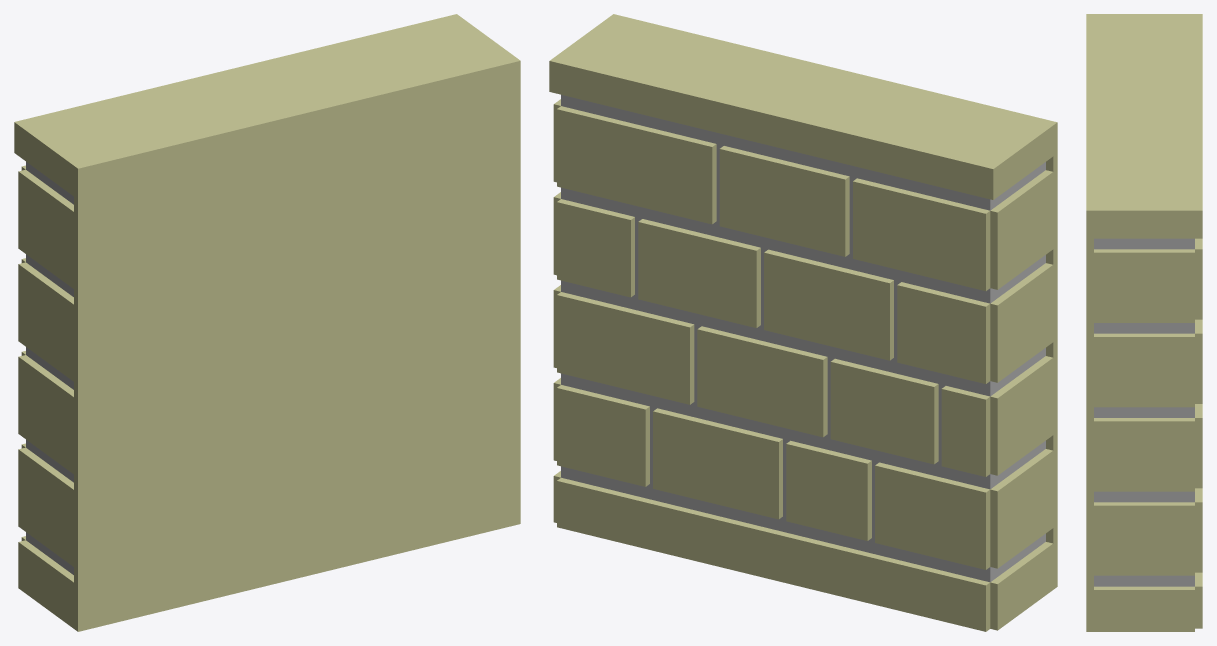
File: Wall.obj
3 renders of one model, left to right at view 1: azimuth 30°, elevation 25°; view 2: azimuth 150°, elevation 25°; view 3: azimuth 270°, elevation 25°, orthographic. The views are drawn at different scales.
Size of the model in its own units: 6 by 6 by 1.5.
Materials: 1 (1 with a texture image).
